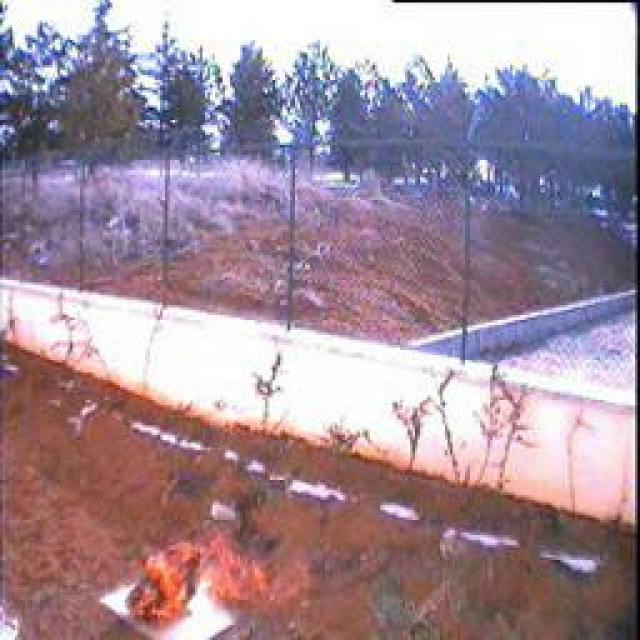Fire: (123, 526, 287, 631)
